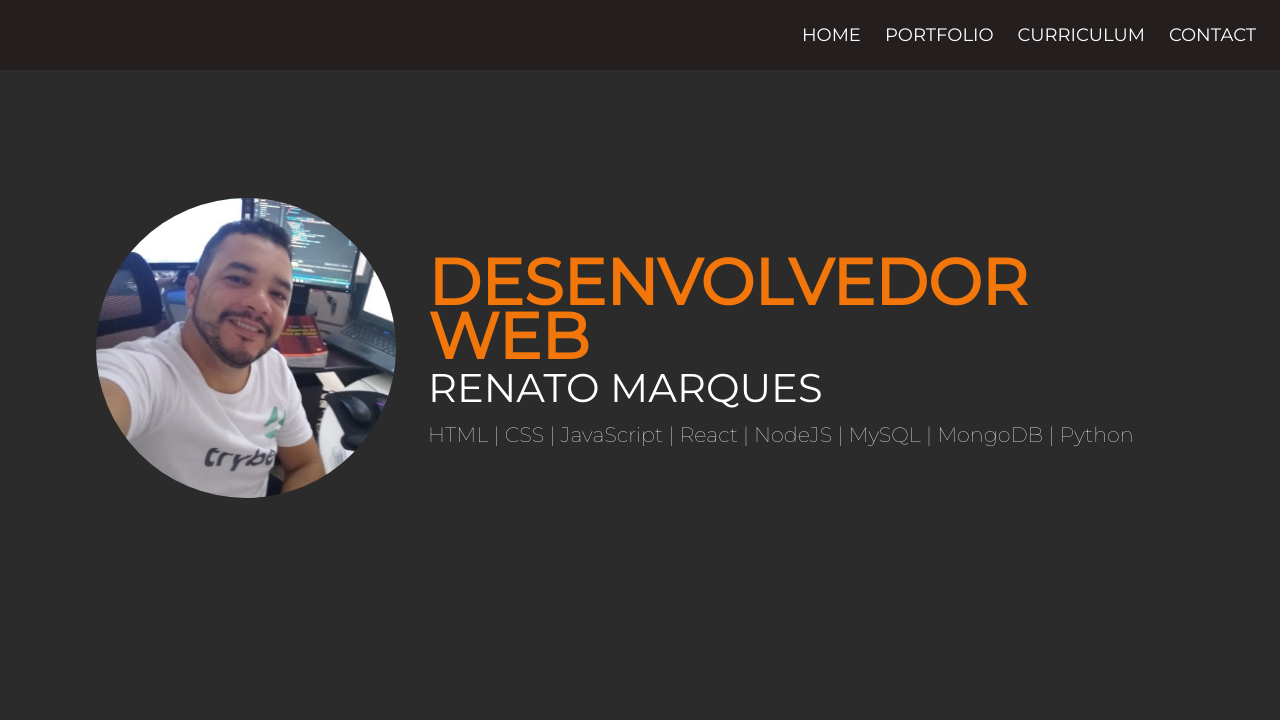
Scenario: App › 1.3 - test link curriculum.
Click the link with test id "curriculum": (1081, 35) [1018,24,1145,46]
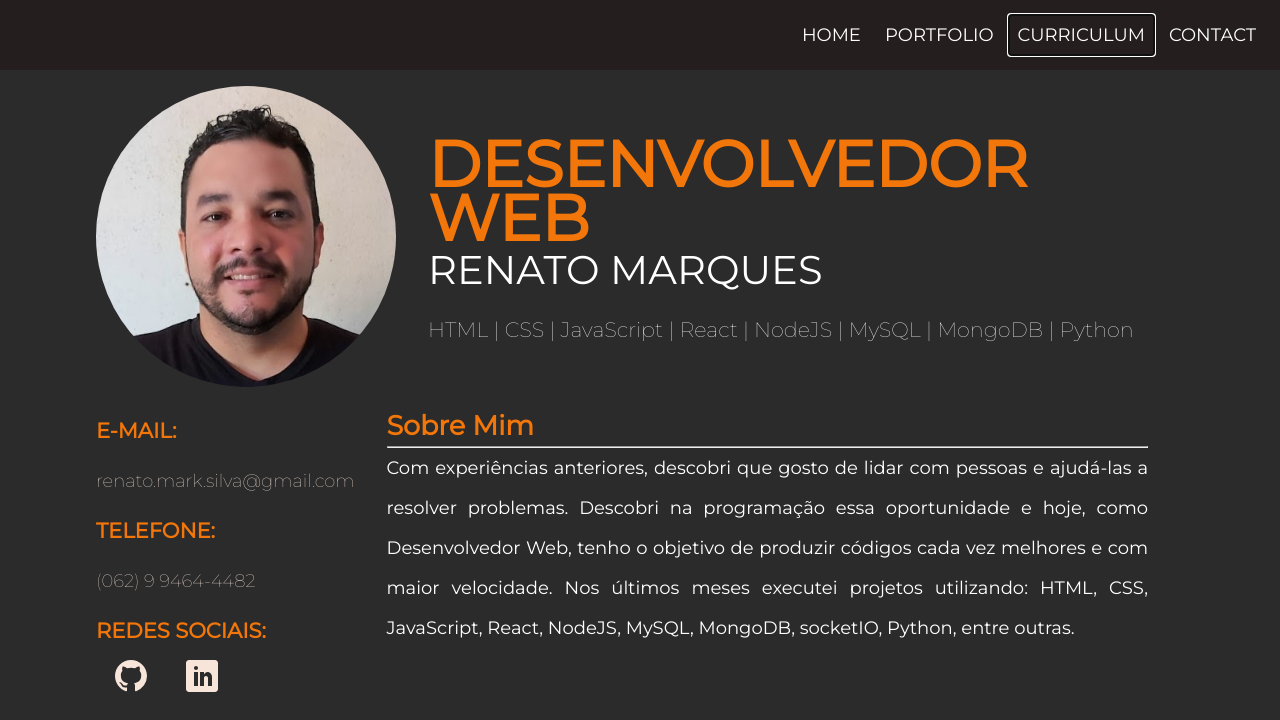
Expected: the heading "Sobre Mim" is shown, [386,409,534,442]
